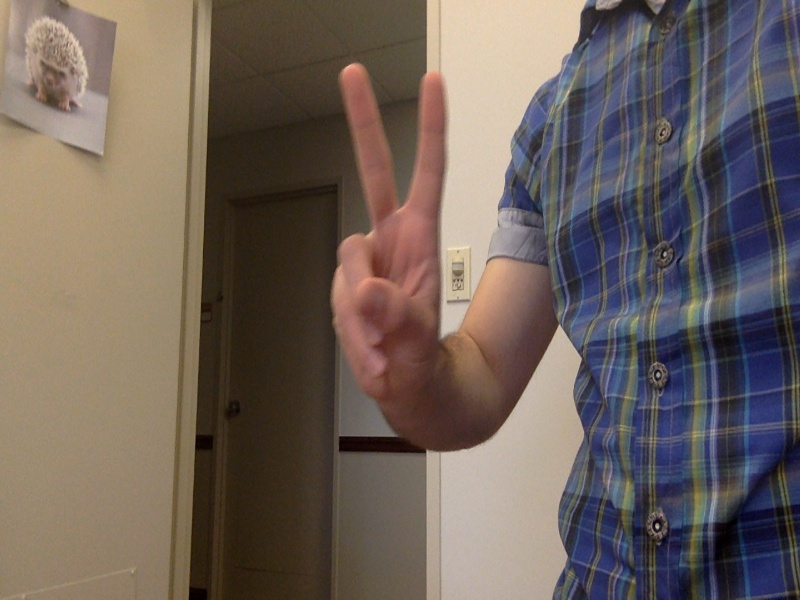2-hand: (331, 62, 451, 400)
